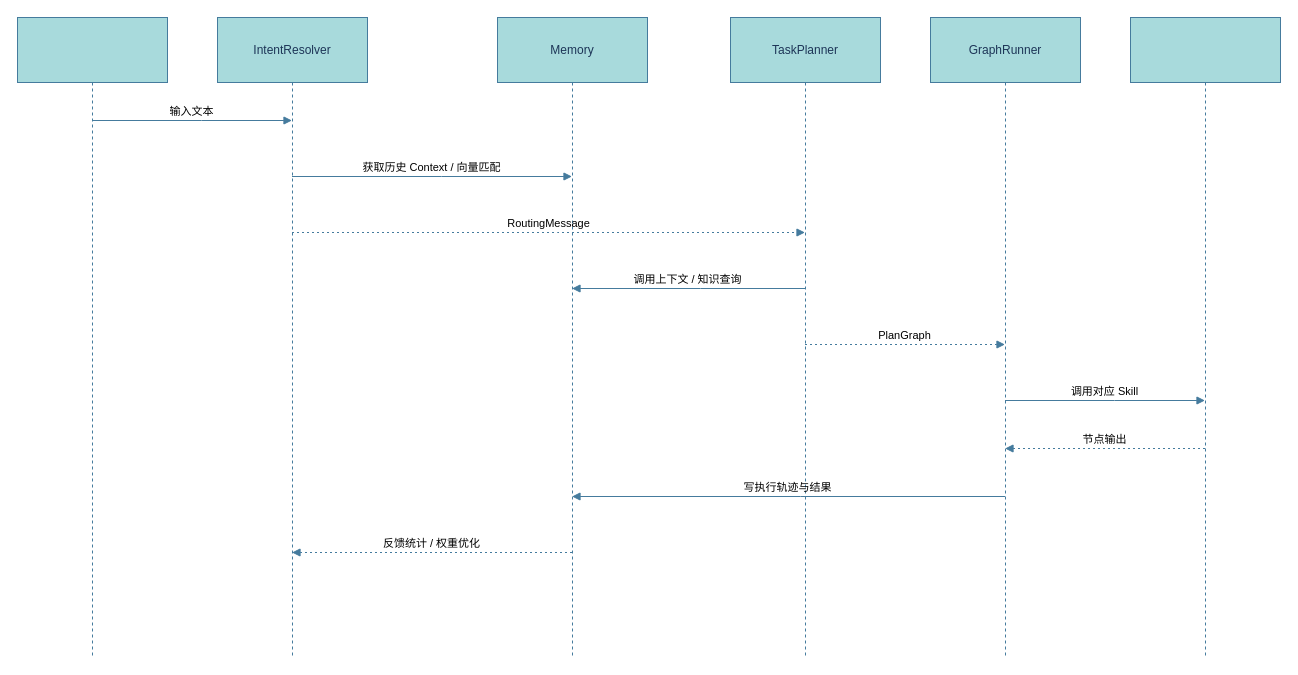
The diagram is 1298 pixels wide and 675 high, and some of its shapes have lost their labels. Each missing label, with the box of its shape:
SkillRegistry: (1130, 16, 1280, 658)
User: (16, 16, 168, 658)
